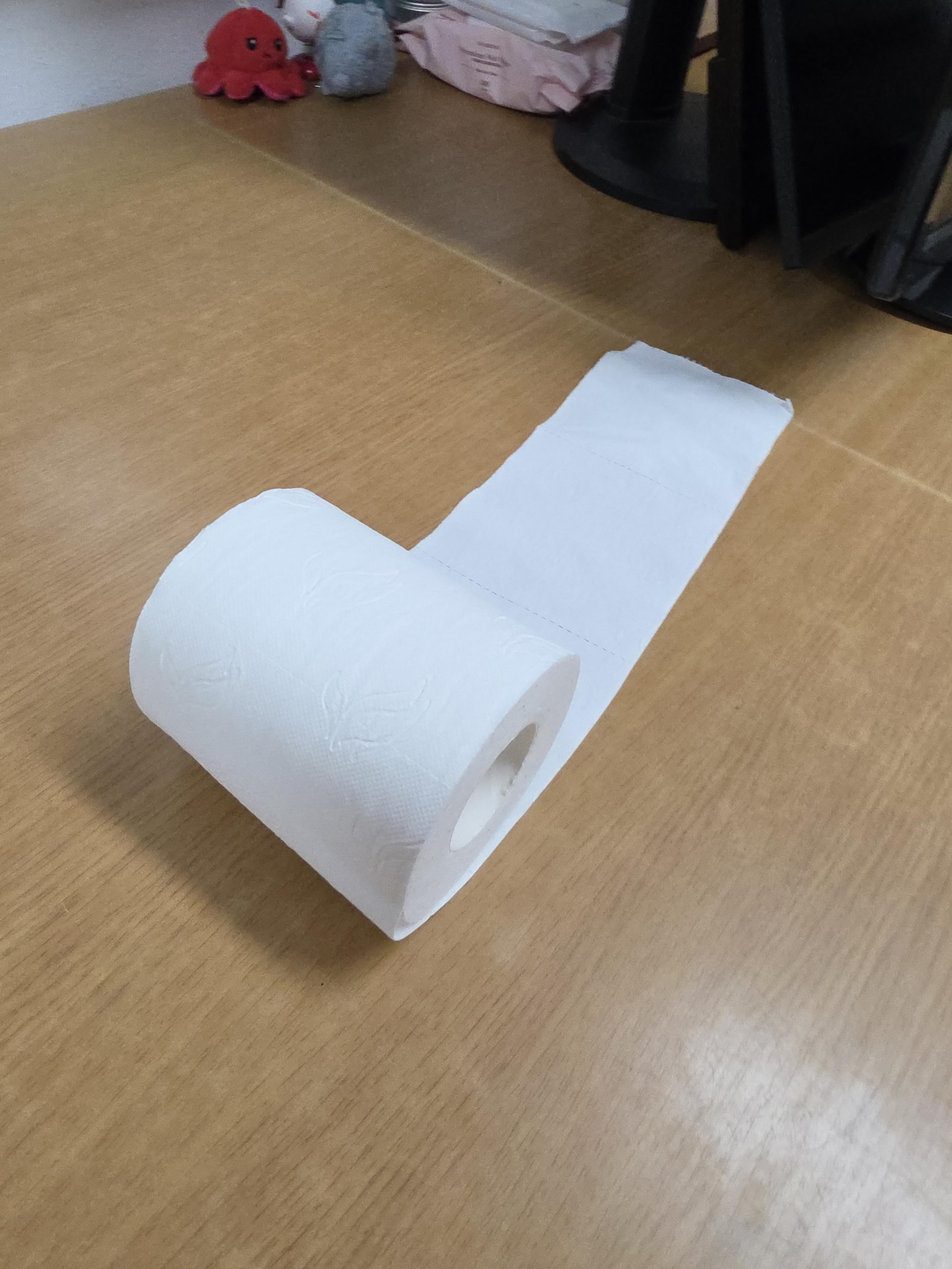tissue: (128, 341, 794, 941)
